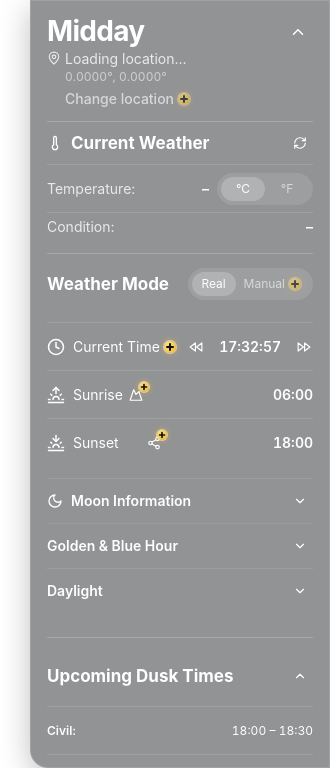
Scenario: InfoPanel: line of sight as an icon at the sun and moon rows (ROADMAP item 30) › opens the sun details on click, independently of the moon details
Step 1. Click the button named "show line of sight" → click(136, 394), box [127,386,145,404]
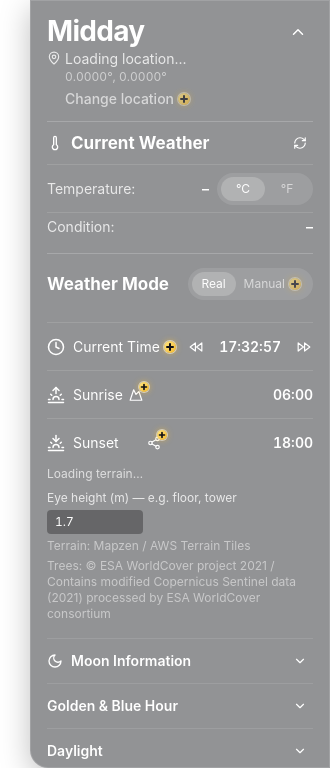
Expected: the text "Loading terrain…" is shown, [47,466,143,481]
